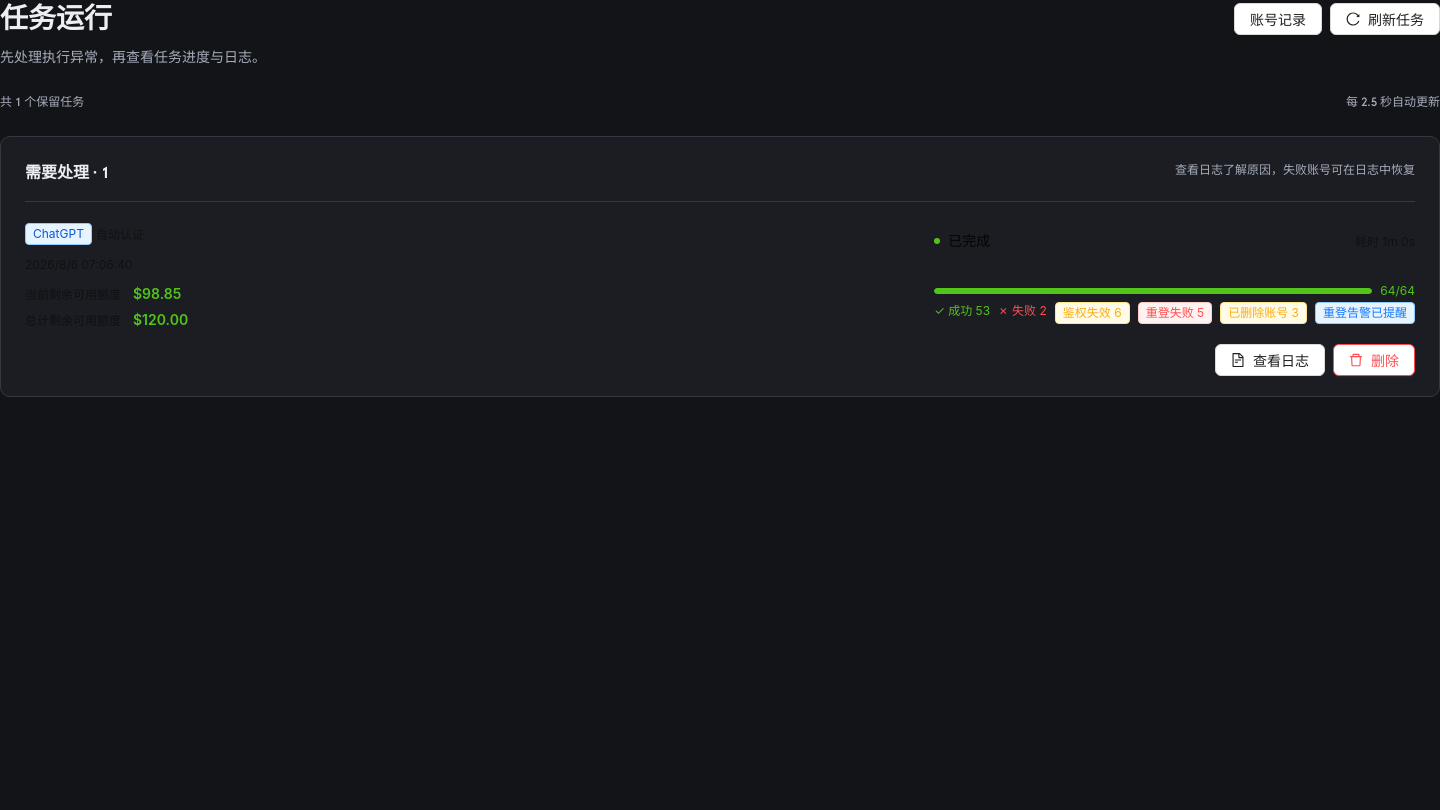
Test case: RunningTasks lightweight summaries › loads the full task snapshot only after opening the log drawer
This screenshot has width=1440, height=810.
What coordinates should you click on to do the following:
click the button "查看日志"
I would click on:
 (1270, 360)
Its box is [1215,344,1325,376].
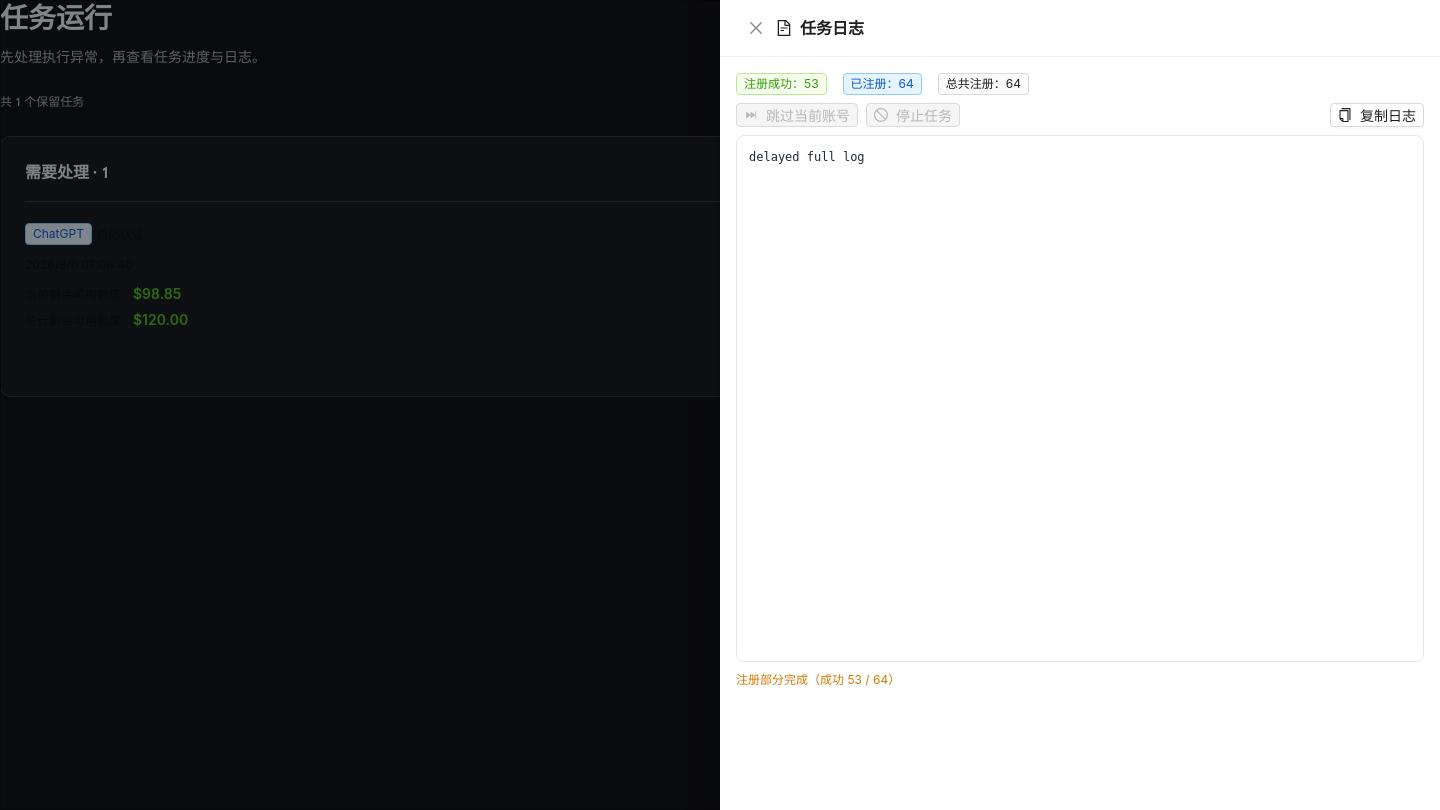
Now the text "delayed full log" is shown, box [749,150,865,164]
